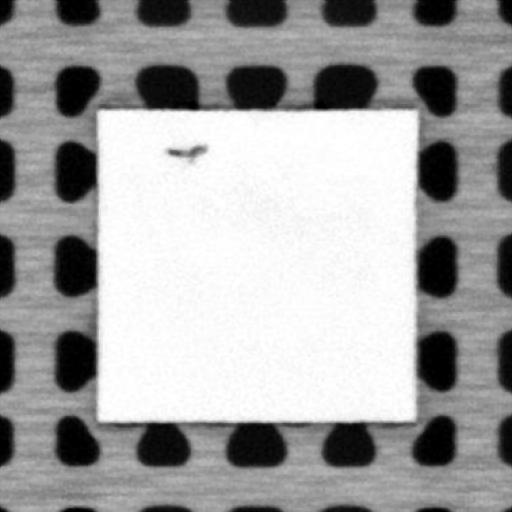DIE_INK: (164, 140, 208, 160)
